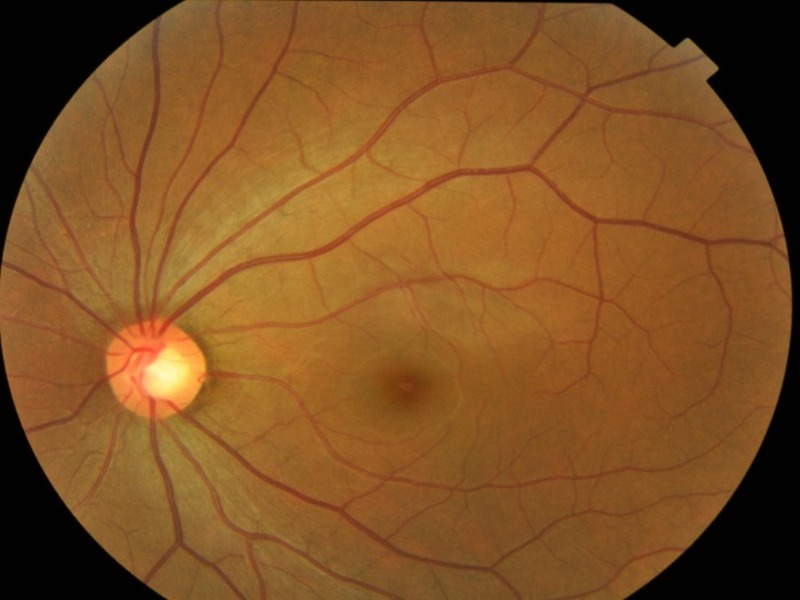Optic Cup: (141, 350, 191, 394)
Optic Disc: (107, 321, 209, 423)
